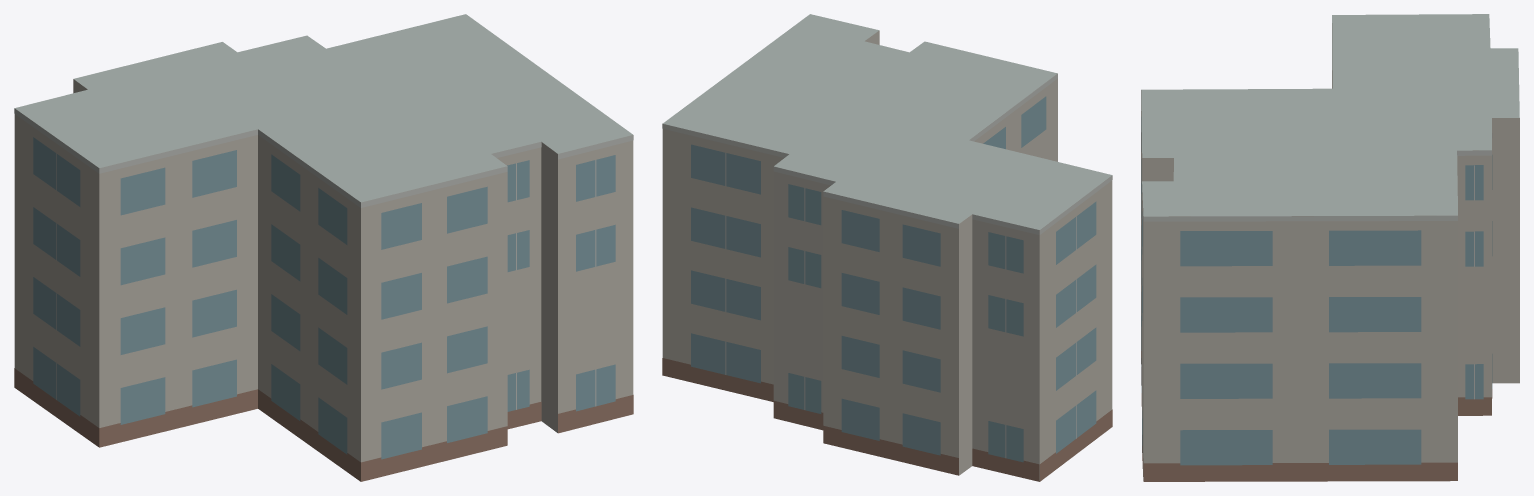
Rendered from survey-upis-32712372.glb.
The picture shows the model from 3 angles, left to right: view 1: azimuth 30°, elevation 25°; view 2: azimuth 150°, elevation 25°; view 3: azimuth 270°, elevation 25°; orthographic projection. The views are drawn at different scales.
Visible parts, largest first — view 1: survey-upis-32712372.tmp; view 2: survey-upis-32712372.tmp; view 3: survey-upis-32712372.tmp.
Part boxes in pixels (left/top/right/bottom): survey-upis-32712372.tmp: left=14, top=14, right=633, bottom=481; survey-upis-32712372.tmp: left=662, top=14, right=1112, bottom=481; survey-upis-32712372.tmp: left=1141, top=14, right=1519, bottom=481.
Bounding box in the file's own units: 20.04 × 12.24 × 15.84.
